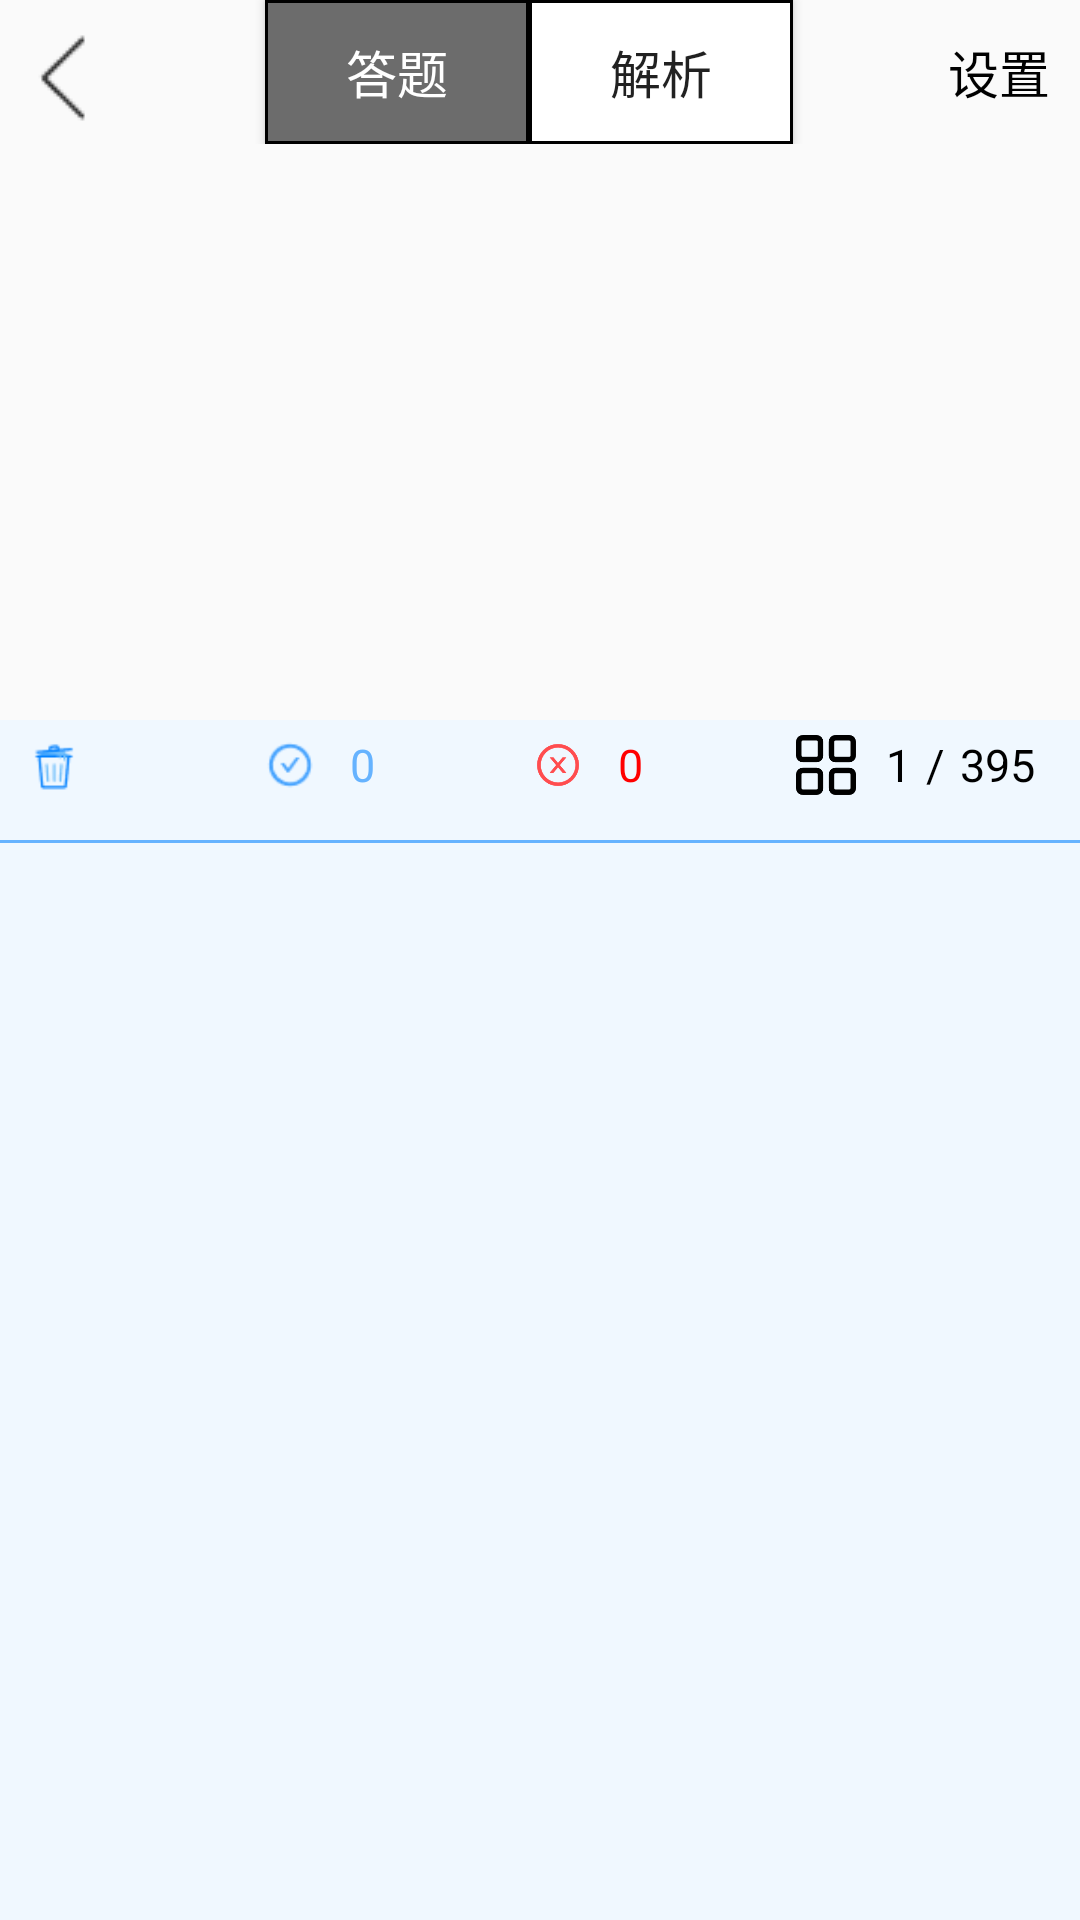

Screen size 1080 × 1920. Icon name, then its center in pixels as [x,y]:
if cuowu: [558,765]
if fanhui: [63,78]
if lajixiang: [54,767]
if liebiao: [826,765]
if zhengque: [290,765]
